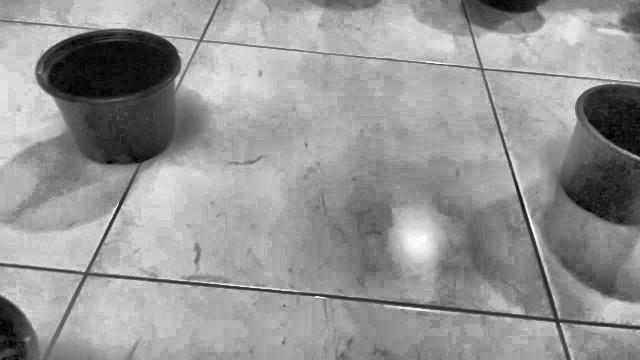pot: (35, 29, 181, 164), (559, 84, 640, 225)
